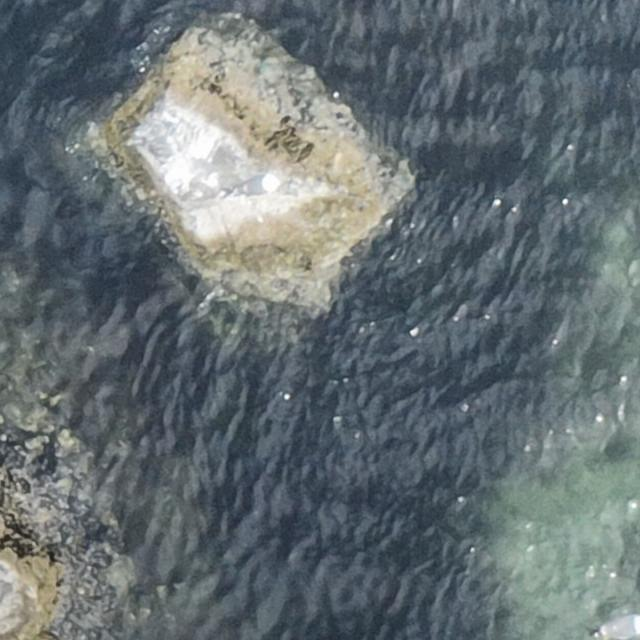umineko: (232, 175, 279, 197)
